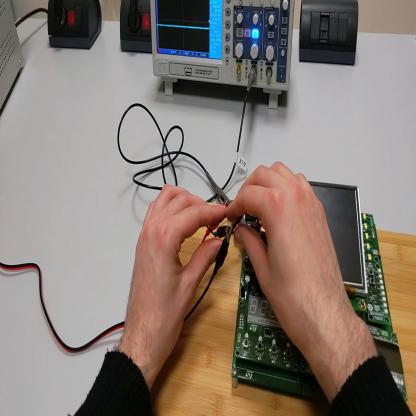hand: (227, 162, 350, 350), (125, 186, 226, 367)
low voltage board: (231, 182, 407, 403)
oscilloscope: (153, 1, 296, 112)
oscilloscope probe tip: (207, 173, 232, 207)
power supply: (1, 2, 24, 118)
socket: (49, 3, 104, 53), (121, 2, 153, 55)
working area: (153, 213, 416, 416)
